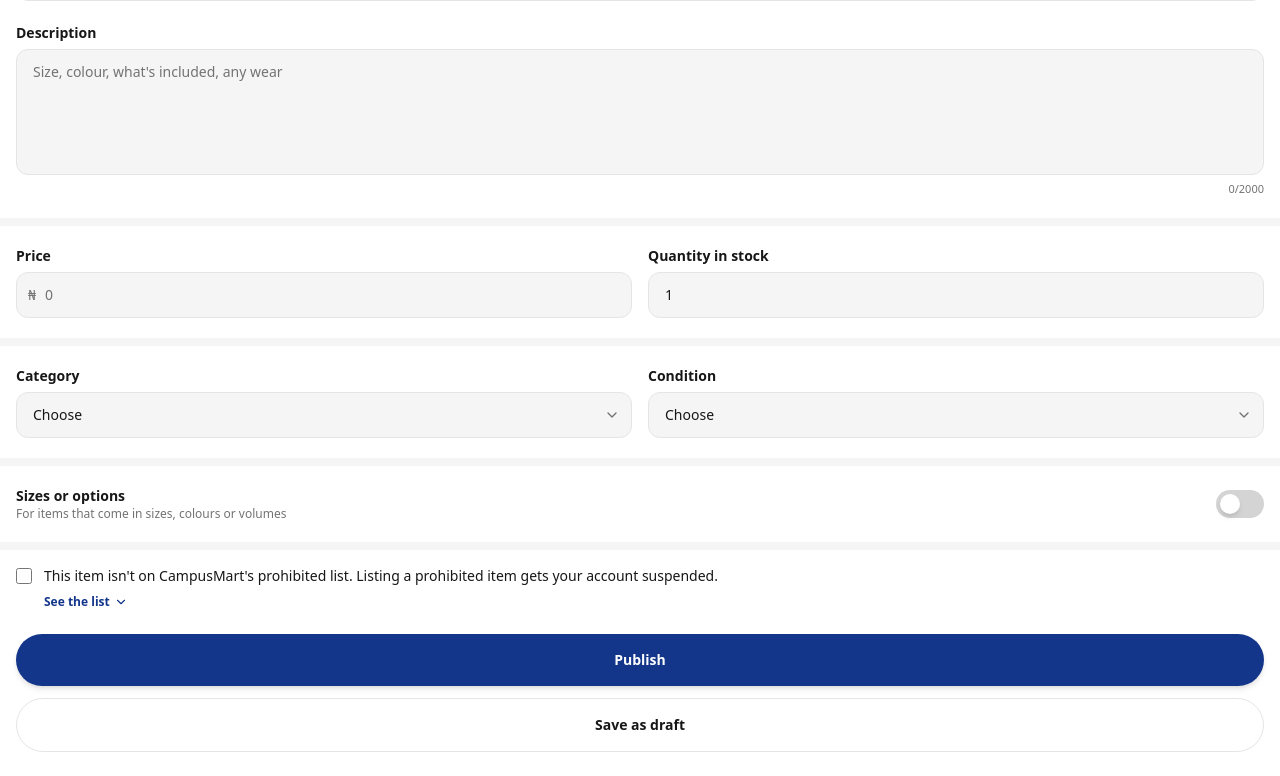
ListingForm › shows what's missing and uploads nothing
The width and height of the screenshot is (1280, 776).
(page scrolled)
What coordinates should you click on to do the following:
click the button "Publish"
I would click on:
 (640, 660)
Its box is [16,634,1264,686].
(page scrolled)
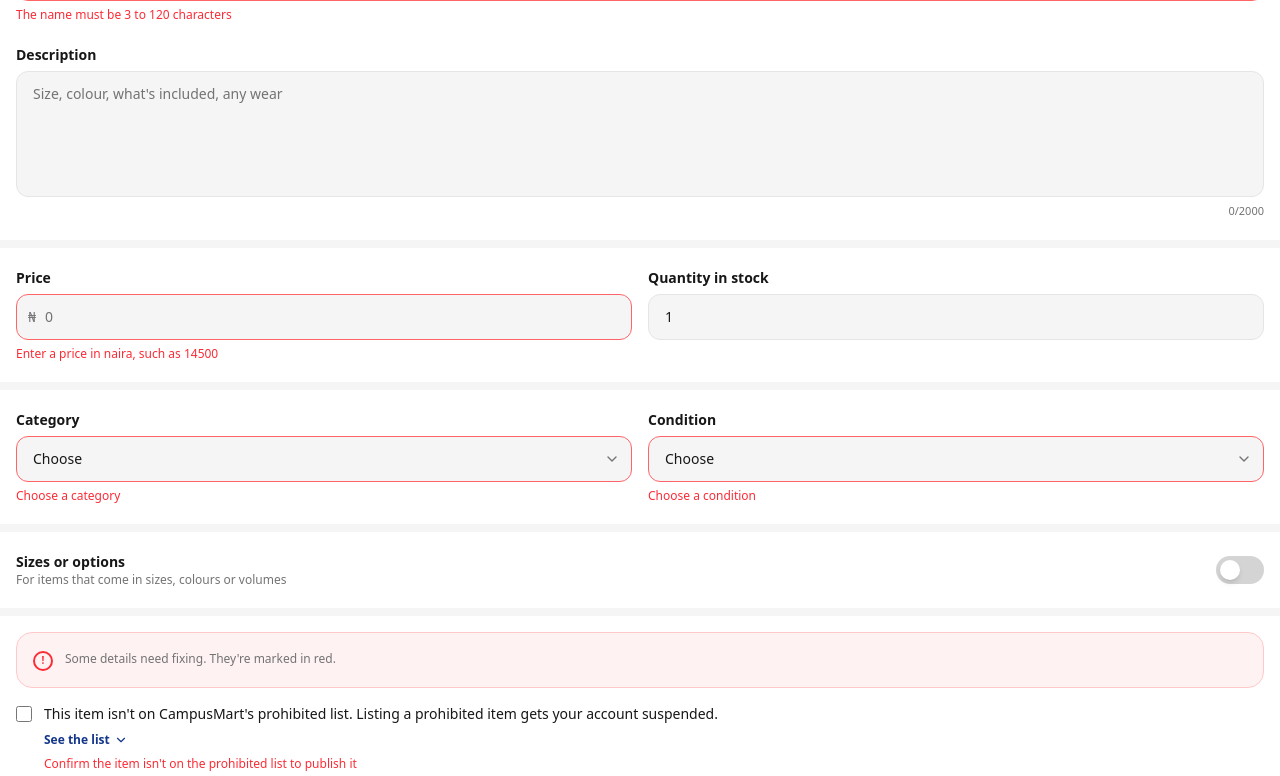
expect the text "Choose a category" is shown: met, box [16,486,120,504]
expect the text "Some details need fixing. They're marked in red." is shown: met, box [65,648,336,668]
